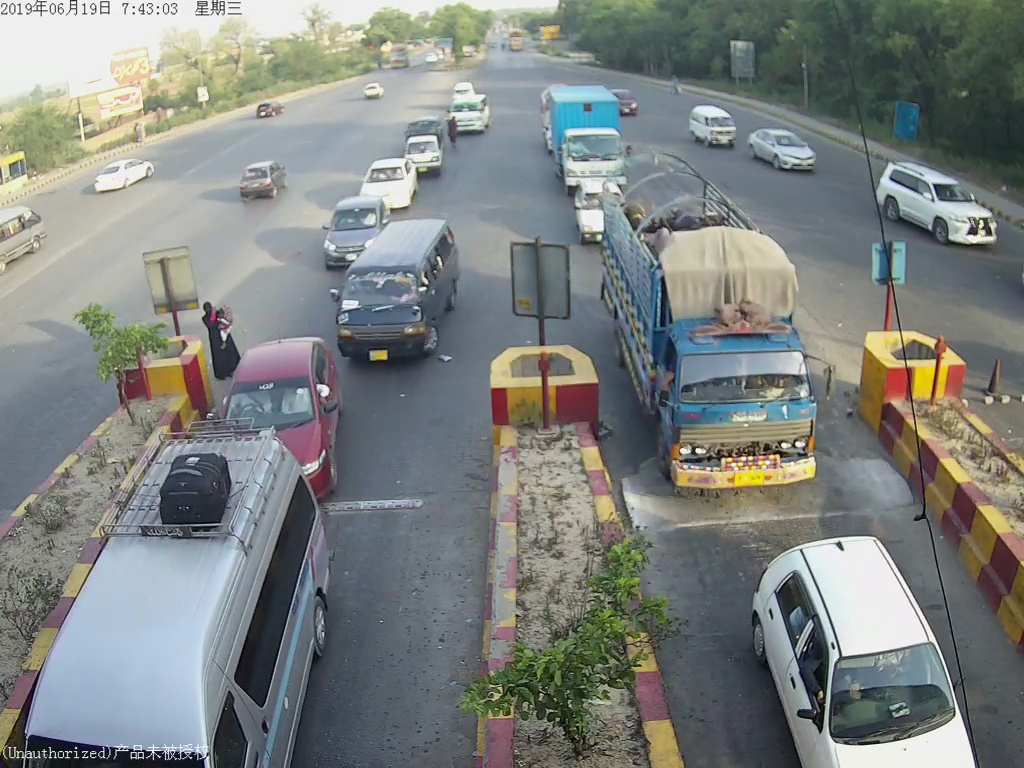Cat-1: (214, 336, 341, 427)
Cat-2: (338, 227, 463, 366)
Cat-4: (607, 168, 848, 503)
